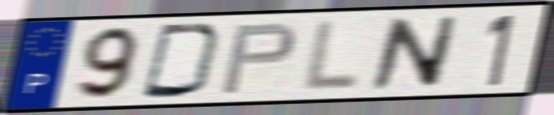1: (484, 12, 517, 88)
9: (72, 24, 142, 102)
D: (138, 22, 227, 100)
L: (297, 17, 365, 94)
N: (366, 14, 462, 92)
P: (217, 20, 299, 97)
